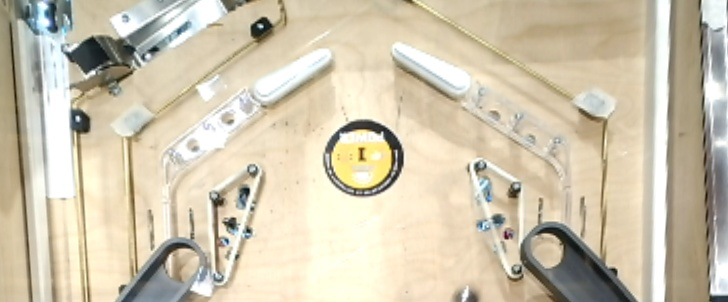ball: (453, 283, 481, 302)
flipper-left: (391, 41, 475, 103)
flipper-right: (250, 44, 335, 107)
